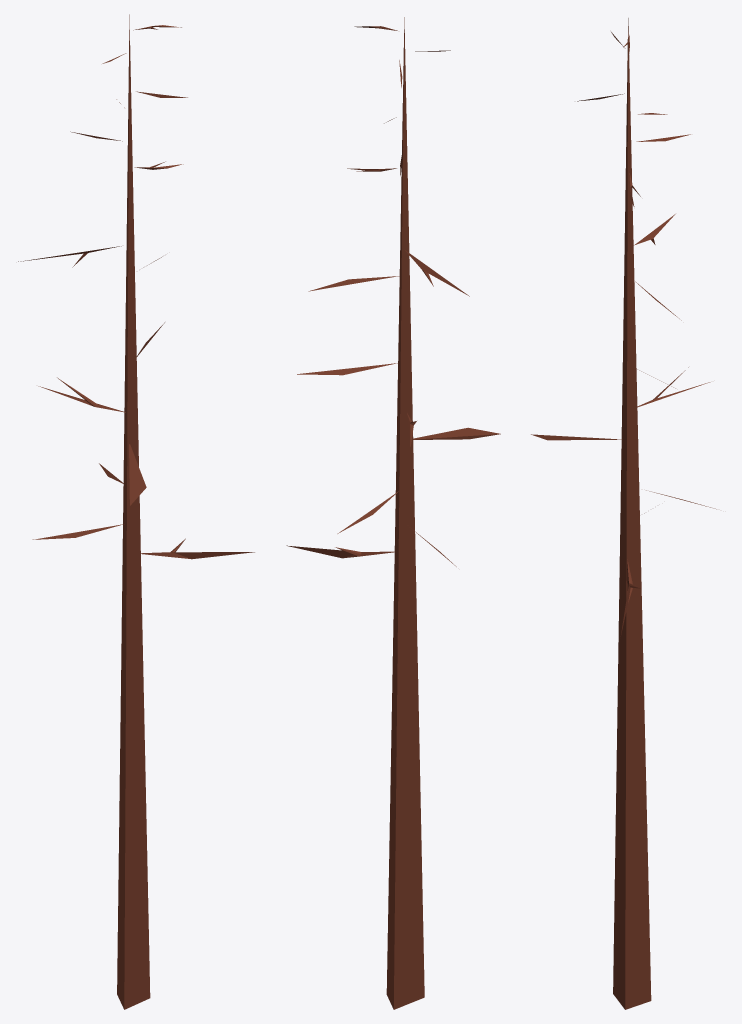
The model's file is pine_dead_type_1_LOD2.fbx.
The picture shows the model from 3 angles, left to right: view 1: azimuth 30°, elevation 25°; view 2: azimuth 150°, elevation 25°; view 3: azimuth 270°, elevation 25°; orthographic projection.
Visible parts, largest first — view 1: pine_trunk.010; view 2: pine_trunk.010; view 3: pine_trunk.010.
Part boxes in pixels (left/top/right/bottom): pine_trunk.010: left=18, top=14, right=254, bottom=1009; pine_trunk.010: left=286, top=17, right=500, bottom=1009; pine_trunk.010: left=531, top=18, right=716, bottom=1009.
Size of the model in its own units: 652 by 2872 by 520.
